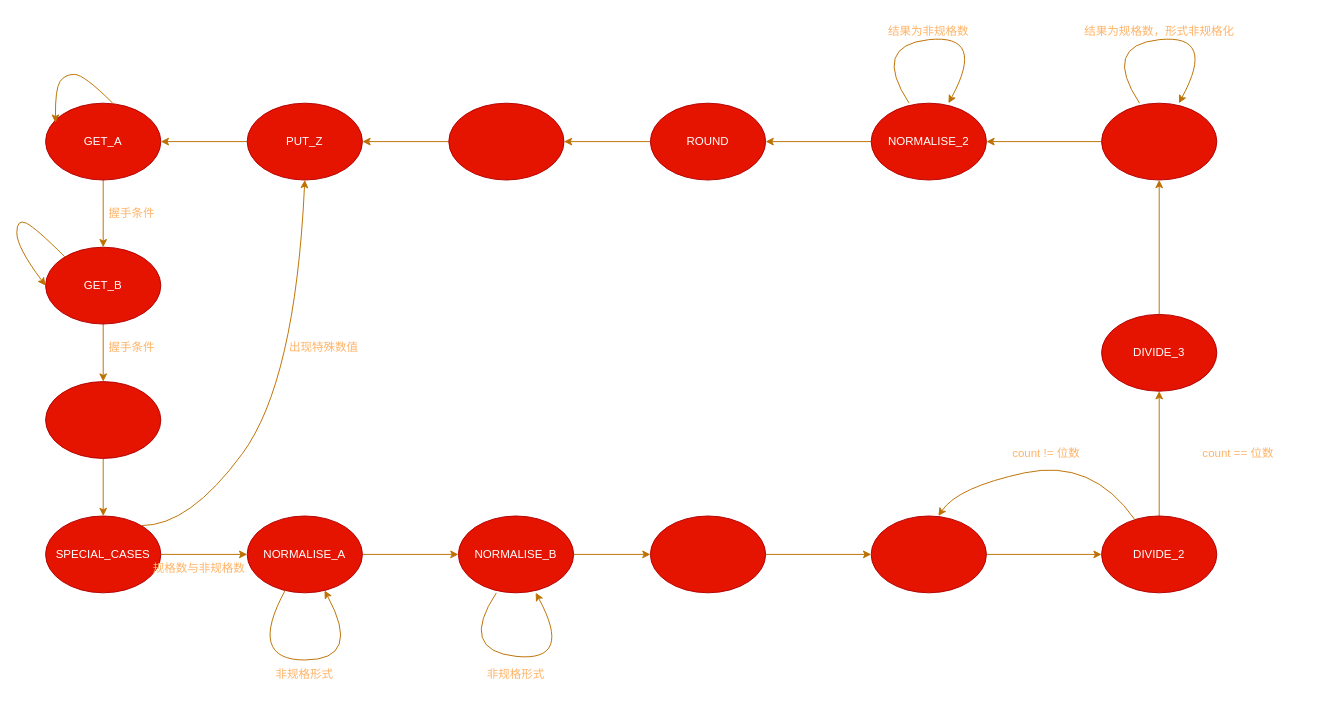
The diagram is 1334 pixels wide and 705 high, and some of its shapes have lost their labels. The shapes that lost their labels are listed below. From the top down, each one's centre as x and y in pixels, then its label:
(506,141): PACK
(1159,141): NORMALISE_1
(103,419): UNPACK
(707,554): DIVIDE_0
(928,554): DIVIDE_1
